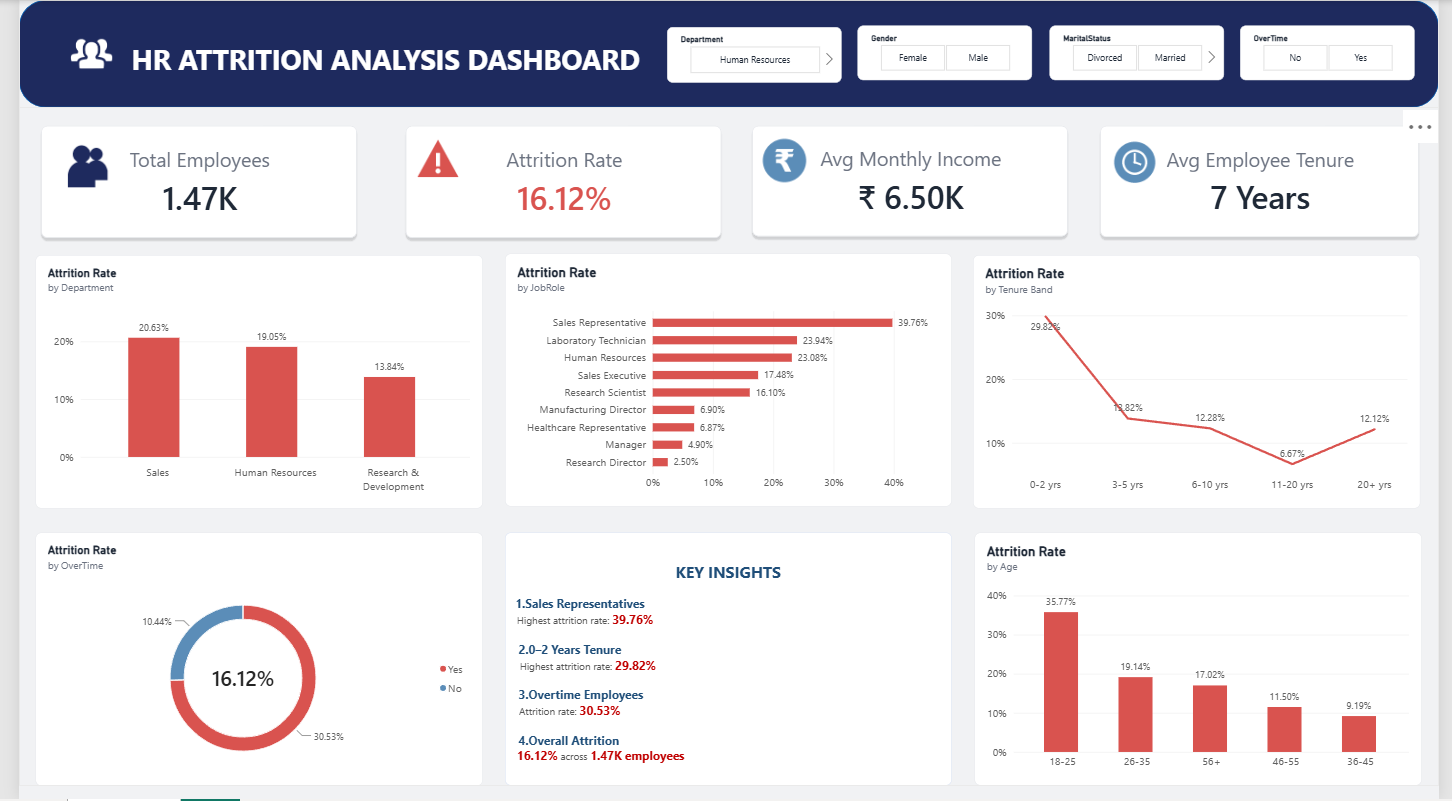

This screenshot's page, from the dashboard's own definition file:
{"tool":"powerbi","page":{"name":"Page 1","canvas":[1920,1080],"ordinal":0},"visuals":[{"type":"textbox","box":[152.6,35,695,76.9],"z":0,"group":"g10"},{"type":"slicer","fields":{"Values":["HR.Department"]},"box":[876.7,36.2,236.2,75],"z":0,"group":"g9"},{"type":"group","id":"g1","title":"Group 7","box":[25,163.8,439.6,162.5],"z":0,"group":"g7"},{"type":"group","id":"g2","title":"Group 8","box":[518.6,163.8,437.1,162.5],"z":0,"group":"g14"},{"type":"group","id":"g3","title":"Group 7","box":[518.6,163.8,438.6,163.4],"z":0,"group":"g2"},{"type":"clusteredColumnChart","fields":{"Category":["HR.Department"],"Y":["HR.Attrition Rate"]},"box":[22.6,344.4,604.7,342.3],"z":0,"group":"g12"},{"type":"image","box":[61.3,1.5,73.1,145],"z":1000,"group":"g10"},{"type":"slicer","fields":{"Values":["HR.Gender"]},"box":[1134.7,34.6,236,73.8],"z":1000,"group":"g9"},{"type":"group","id":"g4","title":"Group 9","box":[986.3,163.8,438.6,161.1],"z":1000,"group":"g14"},{"type":"image","box":[531.3,181.2,73.9,64.9],"z":1000,"group":"g2"},{"type":"group","id":"g5","title":"Group 7","box":[54.6,186.3,76.6,67.5],"z":1000,"group":"g7"},{"type":"clusteredBarChart","fields":{"Category":["HR.JobRole"],"Y":["HR.Attrition Rate"]},"box":[656.6,342.4,604,342],"z":1000,"group":"g12"},{"type":"group","id":"g6","title":"Group 4","box":[0,0,1920,147.5],"z":2000,"group":"g15"},{"type":"shape","title":"HR ATTRITION ANALYSIS DASHBOARD","box":[0,0,1919.3,145.4],"z":2000,"group":"g11"},{"type":"slicer","fields":{"Values":["HR.MaritalStatus"]},"box":[1392.8,34.6,236,73.8],"z":2000,"group":"g9"},{"type":"group","id":"g7","title":"Group 6","box":[25,163.8,439.6,162.5],"z":2000,"group":"g14"},{"type":"textbox","box":[657.5,720,604,342],"z":2000,"group":"g12"},{"type":"slicer","fields":{"Values":["HR.OverTime"]},"box":[1651,34.6,236,73.8],"z":3000,"group":"g9"},{"type":"group","id":"g8","title":"Group 11","box":[1457.2,163.8,442.8,162],"z":3000,"group":"g14"},{"type":"cardVisual","fields":{"Data":["HR.Avg Tenure Display"]},"box":[1457.2,163.8,442.8,162],"z":3000,"group":"g8"},{"type":"donutChart","fields":{"Category":["HR.OverTime"],"Y":["HR.Attrition Rate"]},"box":[22.6,719.1,604.7,342.3],"z":3000,"group":"g12"},{"type":"group","id":"g9","title":"Group 2","box":[876.7,34.6,1010.7,77.2],"z":4000,"group":"g15"},{"type":"lineChart","fields":{"Category":["HR.Tenure Band"],"Y":["HR.Attrition Rate"]},"box":[1289.9,344.4,604.7,342.3],"z":4000,"group":"g12"},{"type":"group","id":"g10","title":"Group 3","box":[61.3,1.5,788.1,145.4],"z":5000,"group":"g11"},{"type":"clusteredColumnChart","title":"Attrition Rate ","fields":{"Category":["HR.Age Group"],"Y":["HR.Attrition Rate"]},"box":[1292.7,719.1,604.7,342],"z":5000,"group":"g12"},{"type":"group","id":"g11","title":"Group 5","box":[0,0,1919.3,147.6],"z":5002,"group":"g6"},{"type":"group","id":"g12","title":"Group 1","box":[22.6,342.4,1874.7,719.6],"z":6000,"group":"g16"},{"type":"cardVisual","fields":{"Data":["HR.Total Employees"]},"box":[25,163.8,438.6,163.4],"z":6004,"group":"g1"},{"type":"cardVisual","fields":{"Data":["HR.Attrition Rate"]},"box":[518.6,163.8,438.6,163.4],"z":6004,"group":"g3"},{"type":"cardVisual","fields":{"Data":["HR.Avg Monthly Income"]},"box":[986.3,163.8,438.6,161.1],"z":6004,"group":"g4"},{"type":"image","box":[1472.5,188.8,71.8,61.3],"z":6500,"group":"g8"},{"type":"image","box":[54.6,186.3,75.8,66.5],"z":6504,"group":"g13"},{"type":"image","box":[999,183.4,73.9,64.9],"z":6510,"group":"g4"},{"type":"group","id":"g13","title":"Group 10","box":[54.6,186.3,75.8,66.5],"z":6518,"group":"g5"},{"type":"group","id":"g14","title":"Group 12","box":[25,163.8,1875,162.5],"z":7002,"group":"g16"},{"type":"group","id":"g15","title":"Group 13","box":[0,0,1920,147.5],"z":7003,"group":"g16"},{"type":"group","id":"g16","title":"Group 14","box":[0,0,1920,1062],"z":7004}]}

Visuals, with their boxes in screenshot pixels (x1, y1, x2, y2), scaled from the page's 1920x1080 canvas onto the 1452x801 screenshot:
textbox: bbox(115, 26, 641, 83)
slicer - HR.Department: bbox(663, 27, 842, 82)
"Group 7" group: bbox(19, 121, 351, 242)
"Group 8" group: bbox(392, 121, 723, 242)
"Group 7" group: bbox(392, 121, 724, 243)
clusteredColumnChart - HR.Department x HR.Attrition Rate: bbox(17, 255, 474, 509)
image: bbox(46, 1, 102, 109)
slicer - HR.Gender: bbox(858, 26, 1037, 80)
"Group 9" group: bbox(746, 121, 1078, 241)
image: bbox(402, 134, 458, 183)
"Group 7" group: bbox(41, 138, 99, 188)
clusteredBarChart - HR.JobRole x HR.Attrition Rate: bbox(497, 254, 953, 508)
"Group 4" group: bbox(0, 0, 1451, 109)
"HR ATTRITION ANALYSIS DASHBOARD" shape: bbox(0, 0, 1451, 108)
slicer - HR.MaritalStatus: bbox(1053, 26, 1232, 80)
"Group 6" group: bbox(19, 121, 351, 242)
textbox: bbox(497, 534, 954, 788)
slicer - HR.OverTime: bbox(1249, 26, 1427, 80)
"Group 11" group: bbox(1102, 121, 1437, 242)
cardVisual - HR.Avg Tenure Display: bbox(1102, 121, 1437, 242)
donutChart - HR.OverTime x HR.Attrition Rate: bbox(17, 533, 474, 787)
"Group 2" group: bbox(663, 26, 1427, 83)
lineChart - HR.Tenure Band x HR.Attrition Rate: bbox(975, 255, 1433, 509)
"Group 3" group: bbox(46, 1, 642, 109)
"Attrition Rate " clusteredColumnChart: bbox(978, 533, 1435, 787)
"Group 5" group: bbox(0, 0, 1451, 109)
"Group 1" group: bbox(17, 254, 1435, 788)
cardVisual - HR.Total Employees: bbox(19, 121, 351, 243)
cardVisual - HR.Attrition Rate: bbox(392, 121, 724, 243)
cardVisual - HR.Avg Monthly Income: bbox(746, 121, 1078, 241)
image: bbox(1114, 140, 1168, 185)
image: bbox(41, 138, 99, 187)
image: bbox(755, 136, 811, 184)
"Group 10" group: bbox(41, 138, 99, 187)
"Group 12" group: bbox(19, 121, 1437, 242)
"Group 13" group: bbox(0, 0, 1451, 109)
"Group 14" group: bbox(0, 0, 1451, 788)
